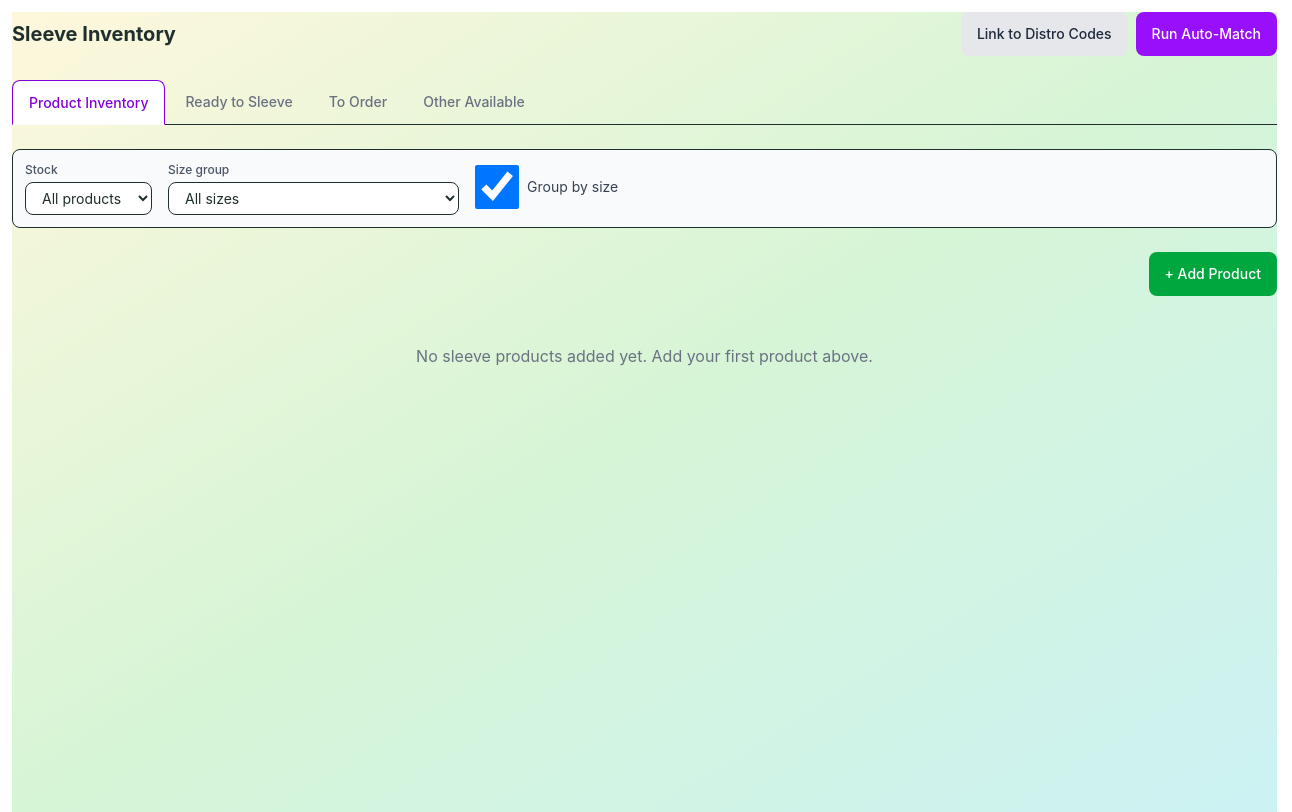
Test: SleeveInventoryTab › empty states render for each section
expect the text "No sleeve products added yet. Add your first product above." is shown: met, box [416,346,873,366]
Click the button "Ready to Sleeve" at (239, 102), box [170,80,309,124]
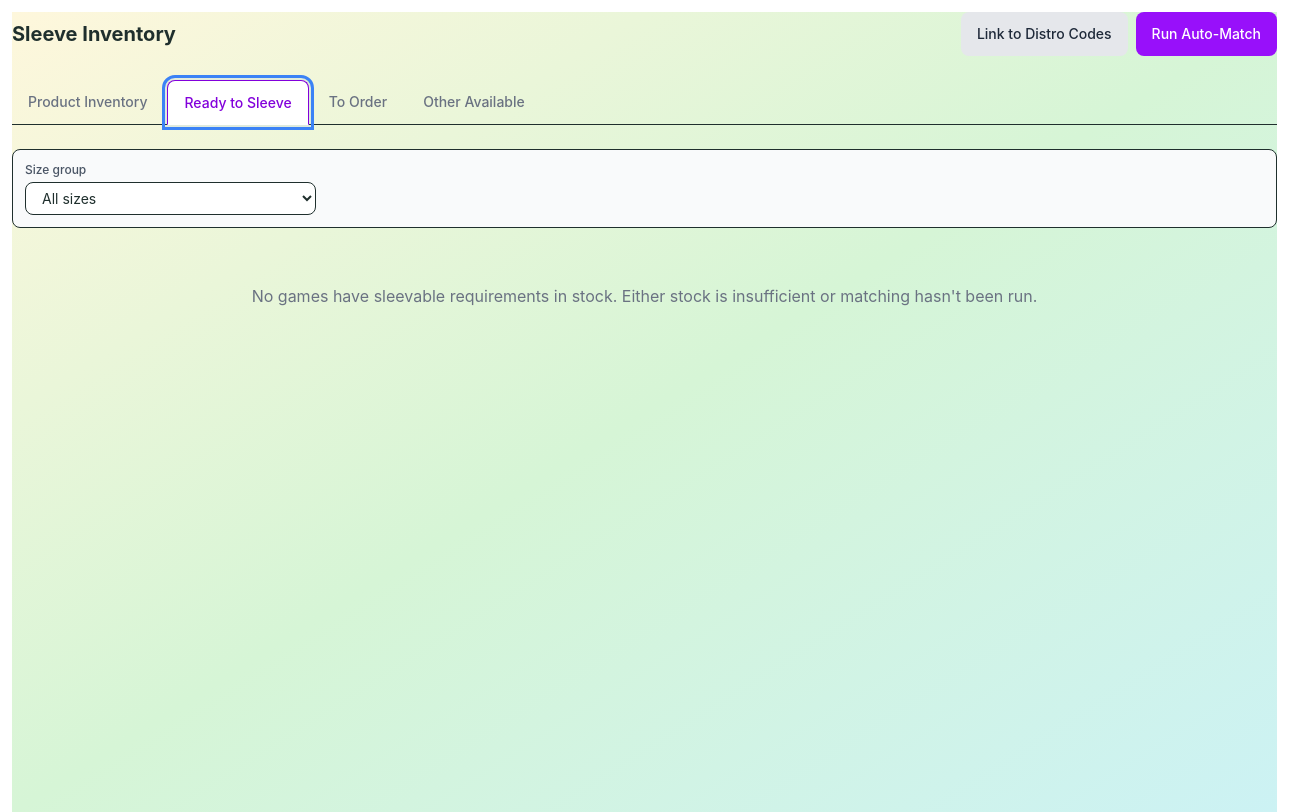
expect the text "No games have sleevable requirements" is shown: met, box [252,286,1037,306]
Click the button "To Order" at (358, 102), box [313,80,403,124]
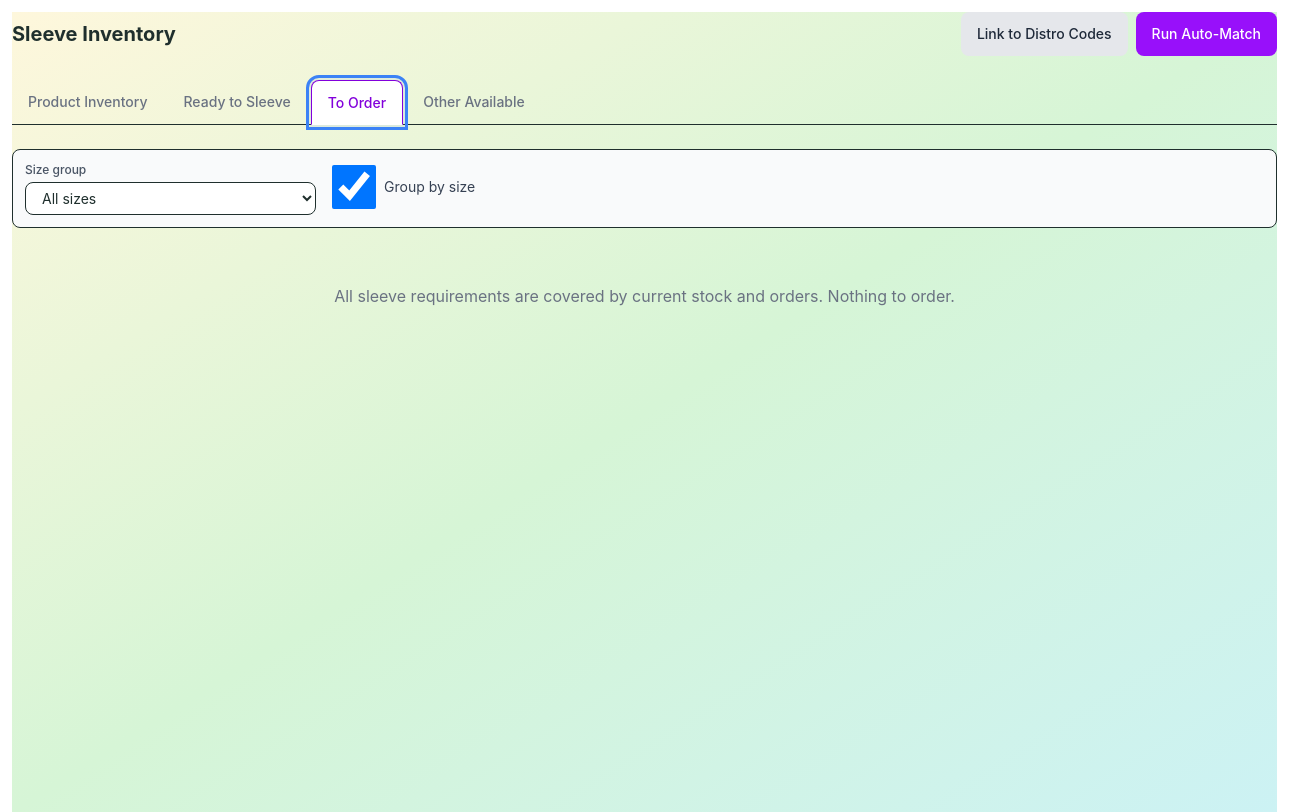
expect the text "Nothing to order" is shown: met, box [334,286,955,306]
